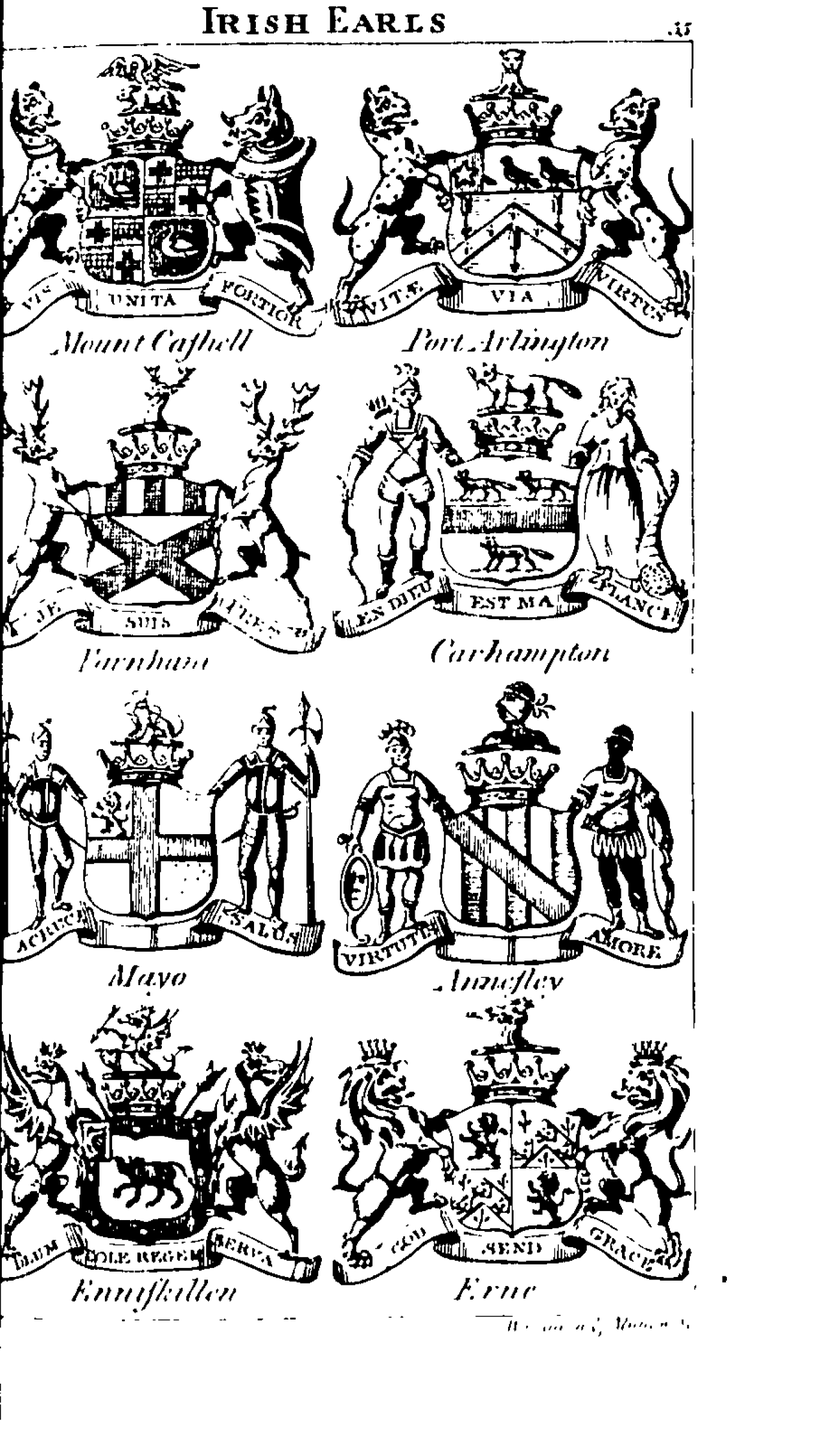coat_of_arms: (331, 680, 695, 1004), (332, 361, 695, 681), (337, 49, 694, 360), (330, 1003, 701, 1291), (4, 52, 333, 375), (1, 1003, 324, 1310), (2, 690, 327, 994), (3, 379, 323, 678)
